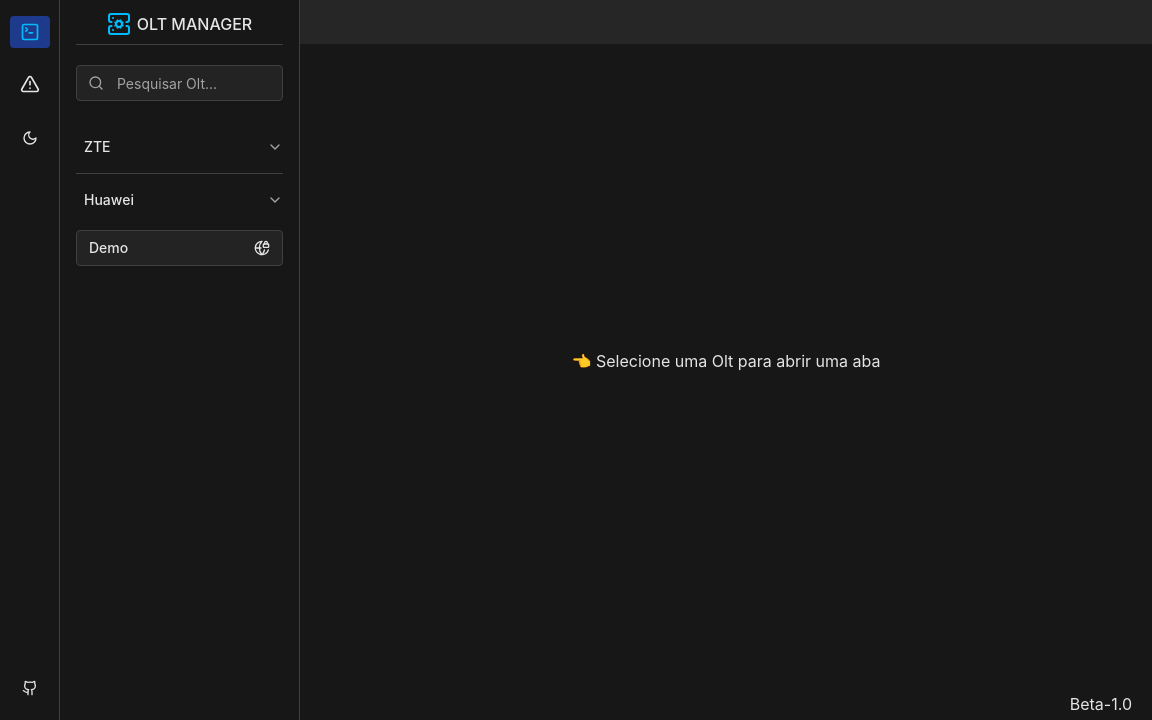
ABA LATERAL TESTE › Deve trocar para incidente, e logo após mudar para OLTs novamente
The width and height of the screenshot is (1152, 720).
Click the button named "btn-Incidents": click(30, 84) [10,68,50,100]
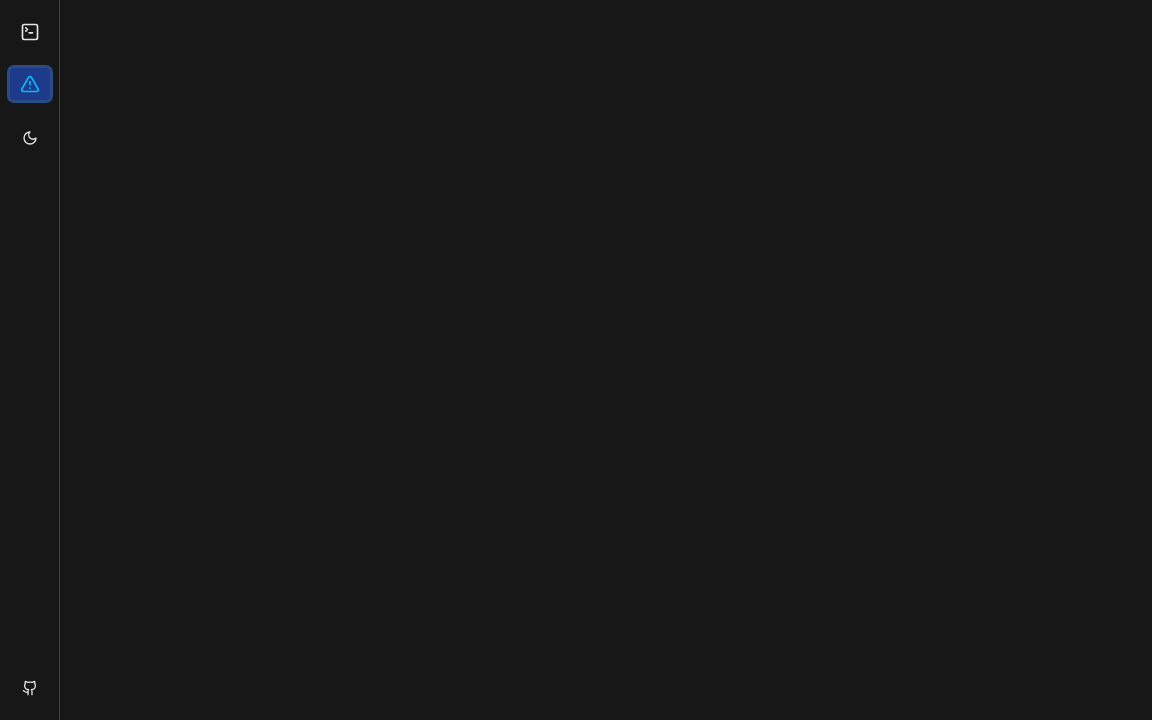
Expected: the field labelled "screen-olt" is gone
Click the button named "btn-Olt": click(30, 32) [10,16,50,48]
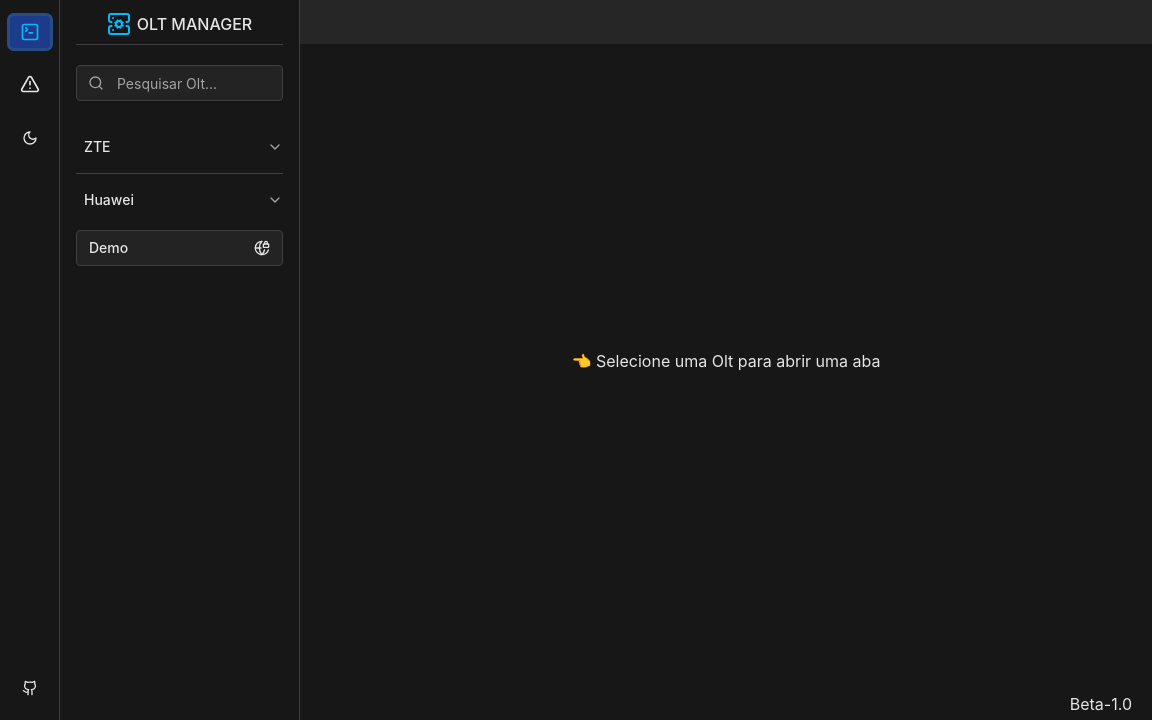
Expected: the element named "screen-olt" is shown
